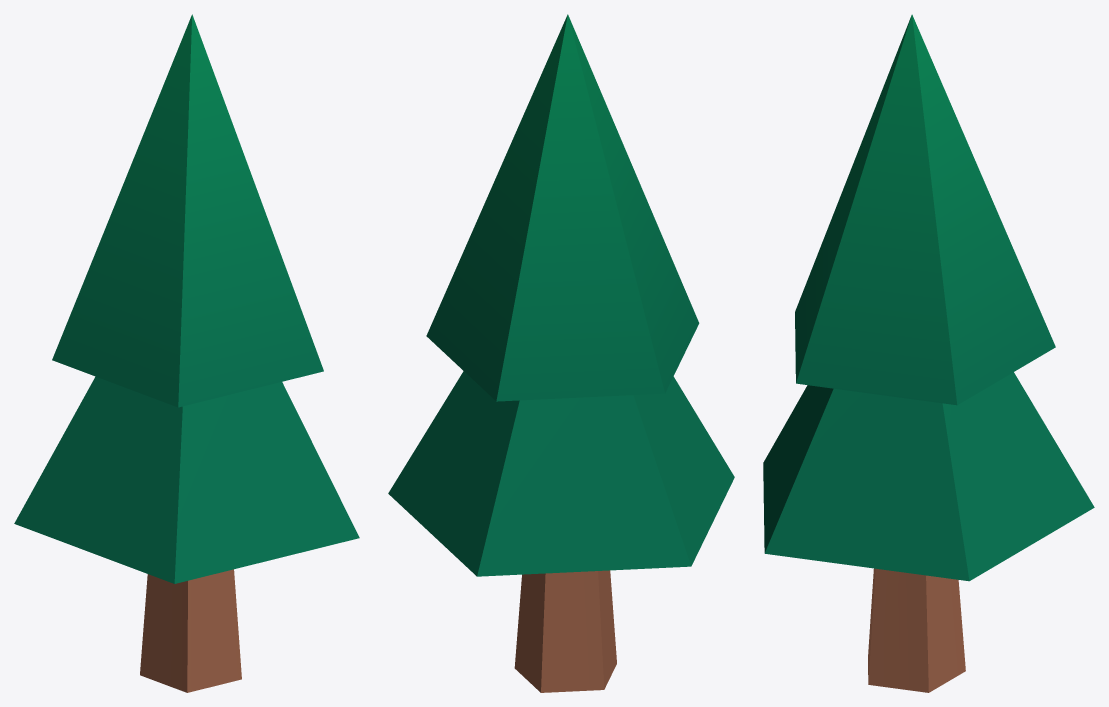
File: tree.glb
The picture shows the model from 3 angles, left to right: view 1: azimuth 30°, elevation 25°; view 2: azimuth 150°, elevation 25°; view 3: azimuth 270°, elevation 25°; orthographic projection.
Visible parts, largest first — view 1: tree_single_A; view 2: tree_single_A; view 3: tree_single_A.
Part boxes in pixels (x1,y1,x2,y2): tree_single_A: (14, 14, 359, 692); tree_single_A: (388, 14, 734, 692); tree_single_A: (763, 14, 1094, 692).
Size of the model in its own units: 0.5739 by 1.2 by 0.547.
Materials: 1 (1 with a texture image).
